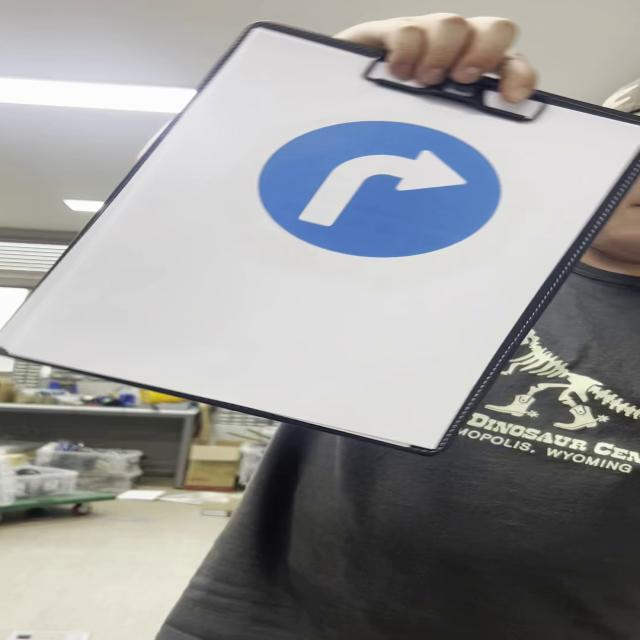right: (258, 123, 508, 261)
